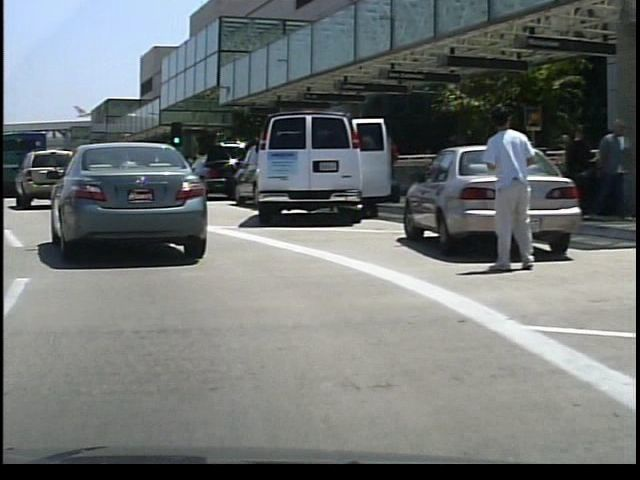person: (477, 104, 535, 274), (591, 116, 625, 220), (558, 118, 587, 222), (378, 130, 402, 201)
